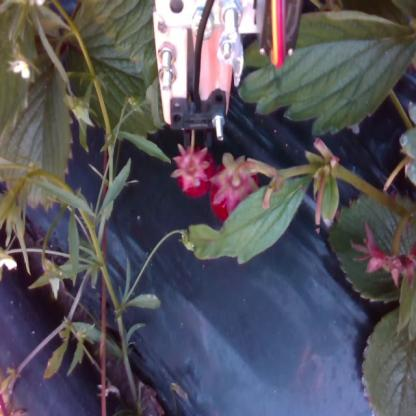ripe: (209, 160, 262, 219), (175, 144, 212, 197)
